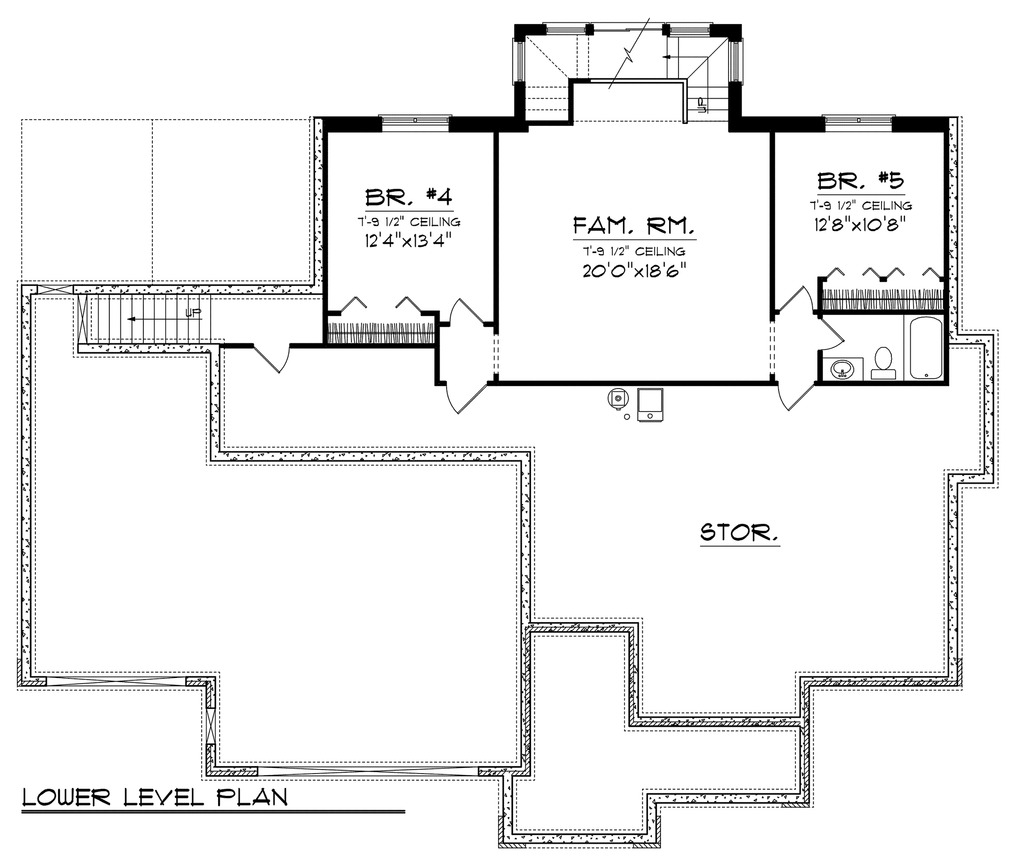door: (441, 380, 494, 415), (778, 376, 825, 411), (773, 283, 819, 317), (449, 294, 486, 331), (253, 342, 296, 373), (813, 318, 849, 352)
large_sink: (867, 344, 900, 389)
small_sink: (821, 359, 862, 384)
stairs: (528, 29, 728, 134), (67, 292, 223, 351)
tub: (907, 313, 942, 384)
window: (827, 111, 892, 134), (381, 111, 448, 133)
